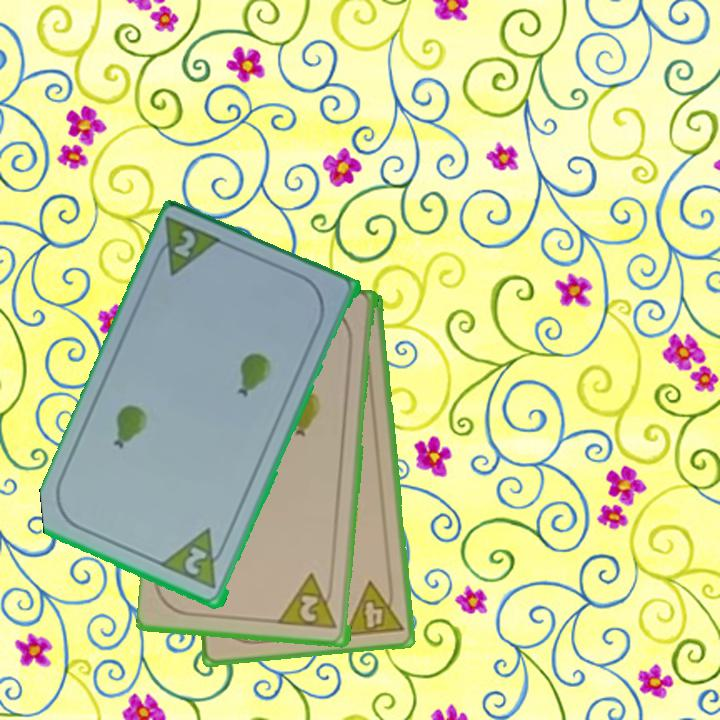2p: (159, 525, 232, 593), (170, 226, 200, 262), (296, 592, 323, 625)
4p: (341, 576, 406, 640)
